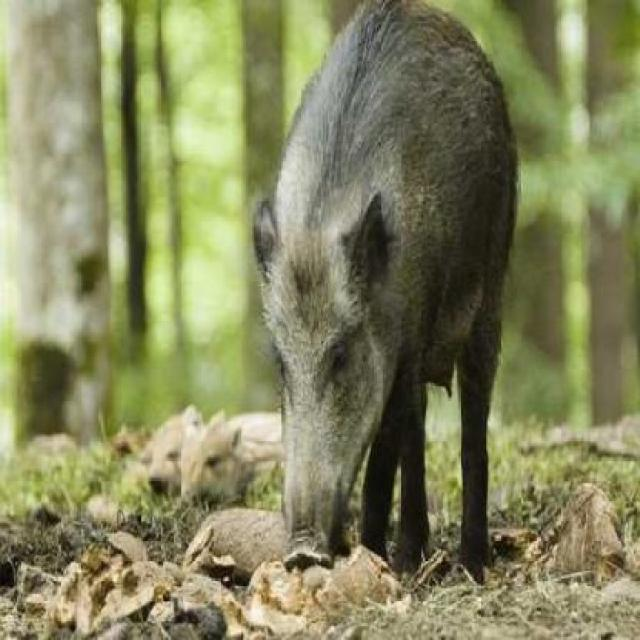pig: (265, 0, 530, 599)
